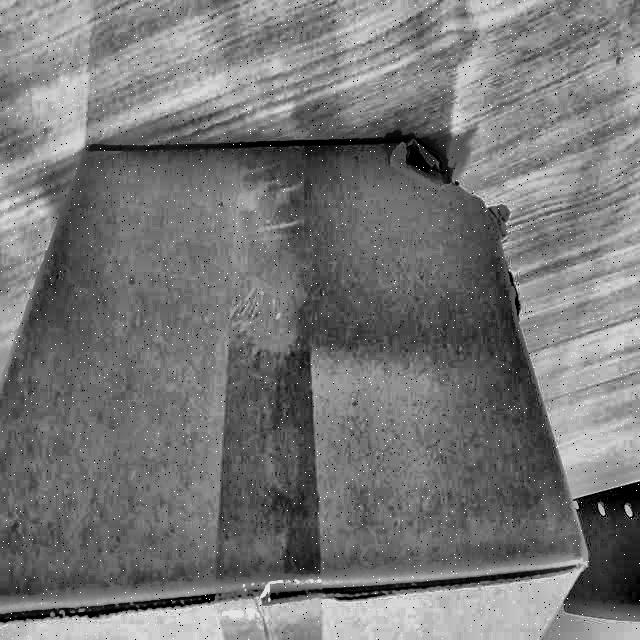box: (1, 131, 596, 640)
hole: (395, 146, 459, 185)
